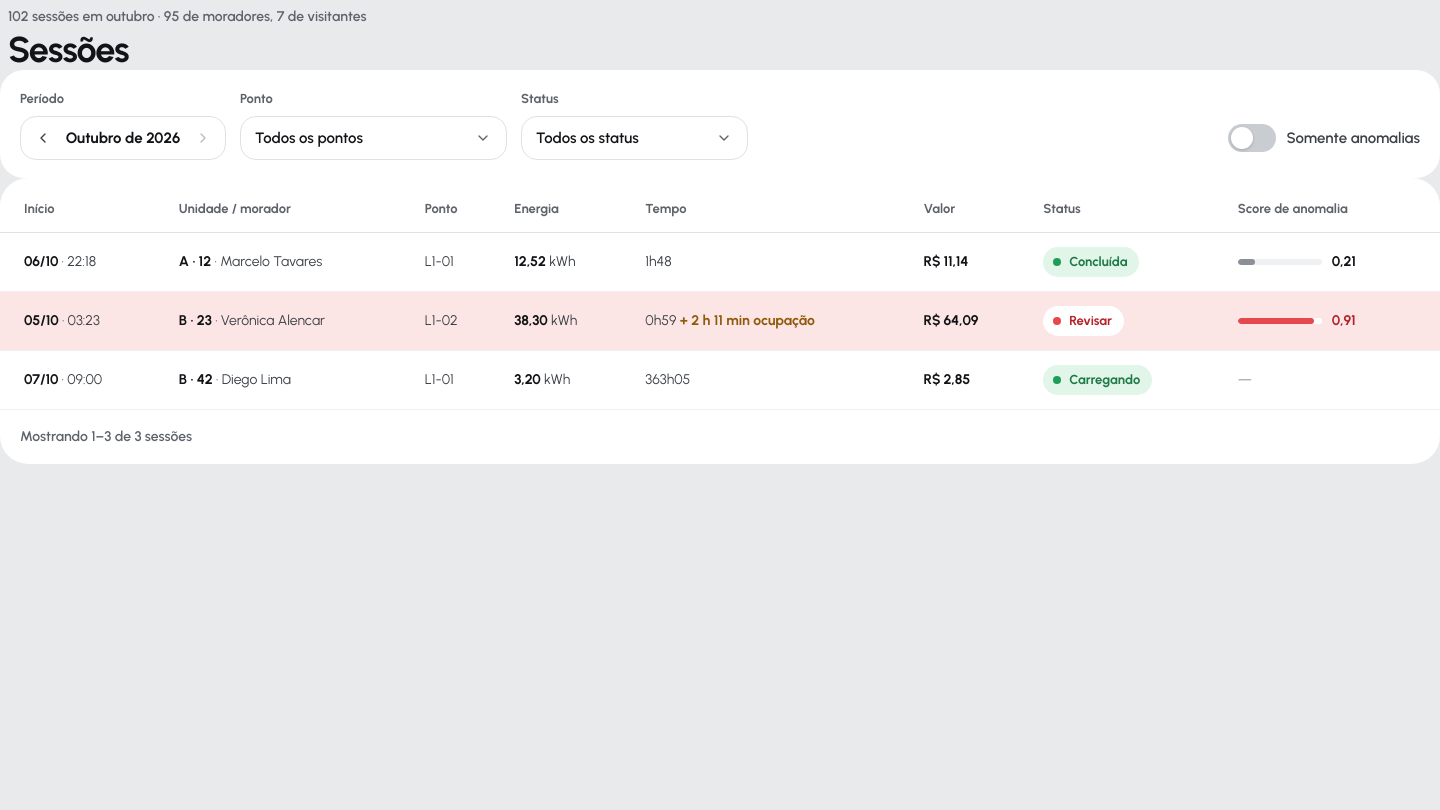
it: SessionsRoute › loads the drawer from the organization session detail
Click the button named "Ver detalhes da sessão de Diego Lima" at (63, 380), box [24, 369, 102, 391]
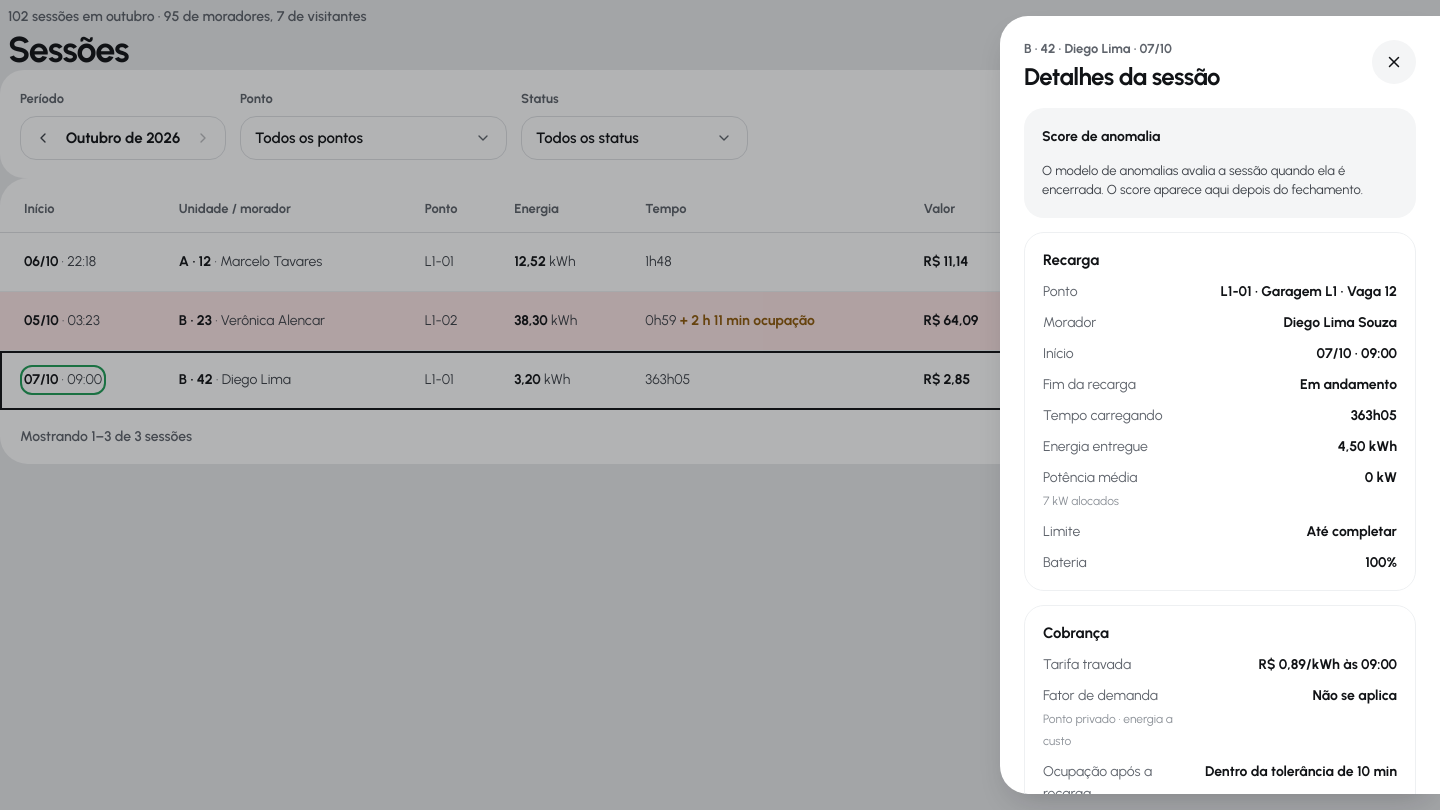
Check: the text "Diego Lima Souza" is shown, box [1284, 314, 1397, 331]
Check: the text "4,50 kWh" is shown, box [1338, 438, 1397, 455]
